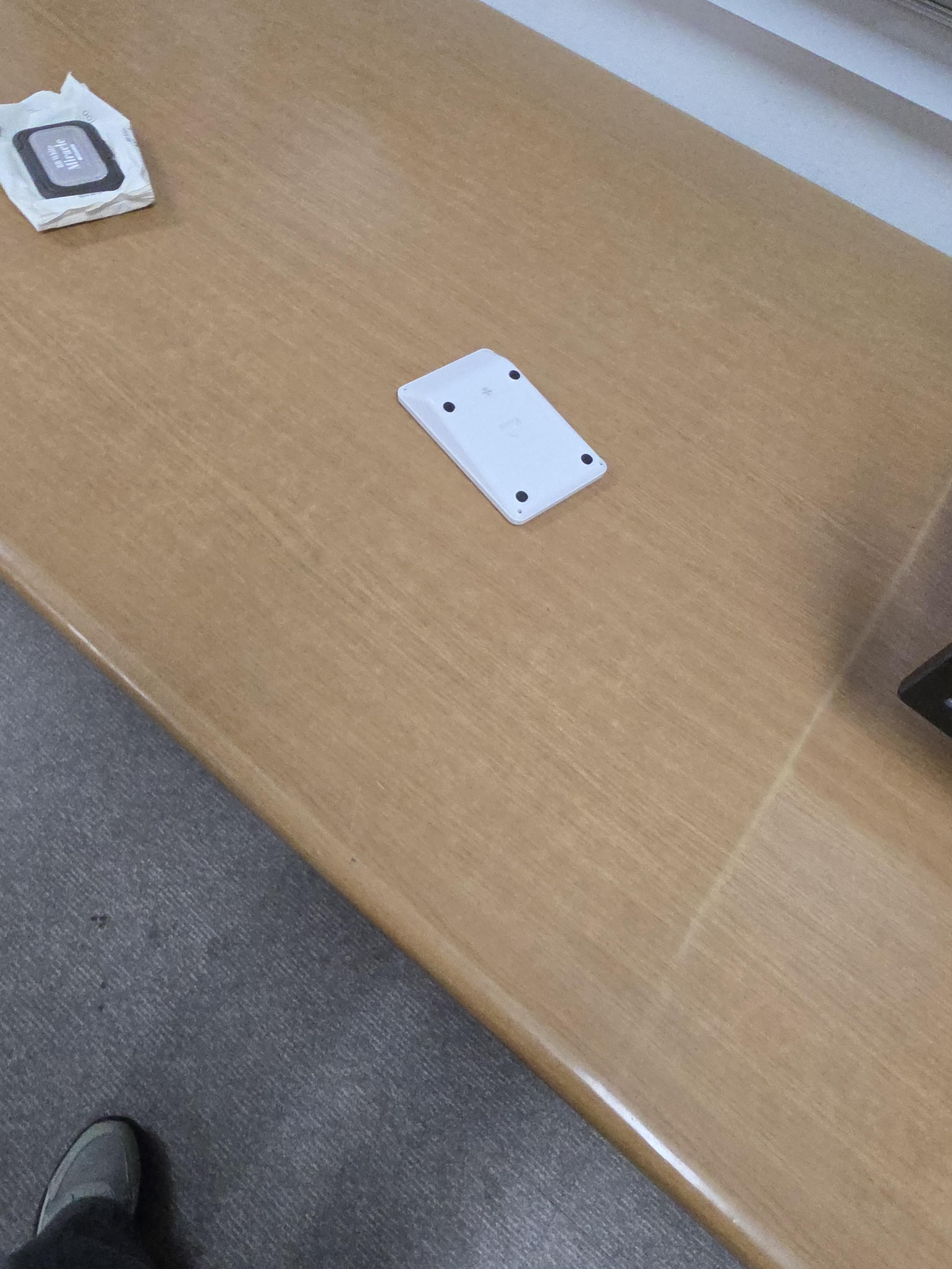calculator: (397, 348, 607, 526)
tissue: (0, 71, 155, 231)
